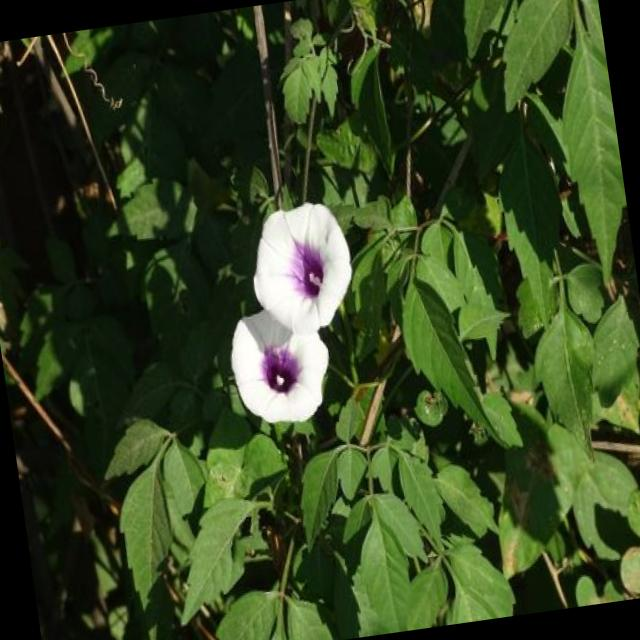ipomoea: (205, 193, 378, 436), (240, 193, 364, 343), (220, 298, 340, 436)
